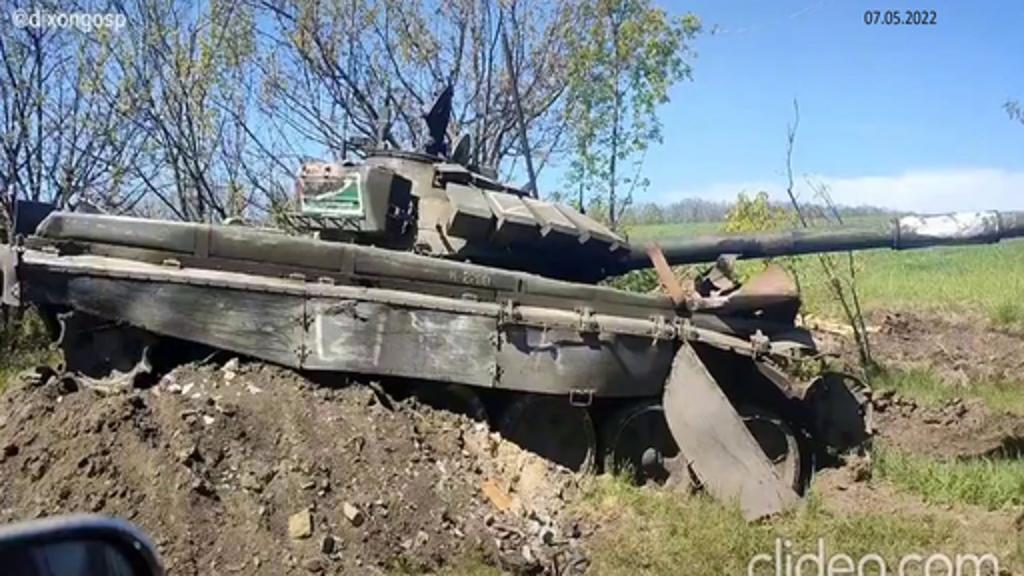TANK: (0, 116, 998, 512)
